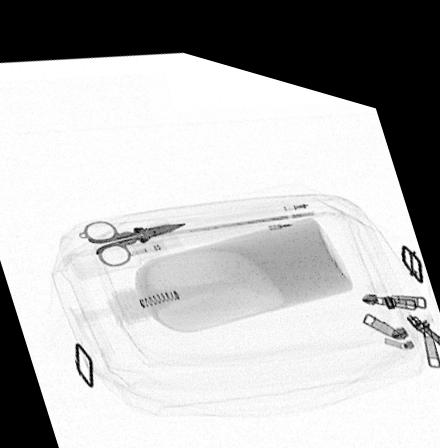Scissors: (78, 213, 187, 261)
